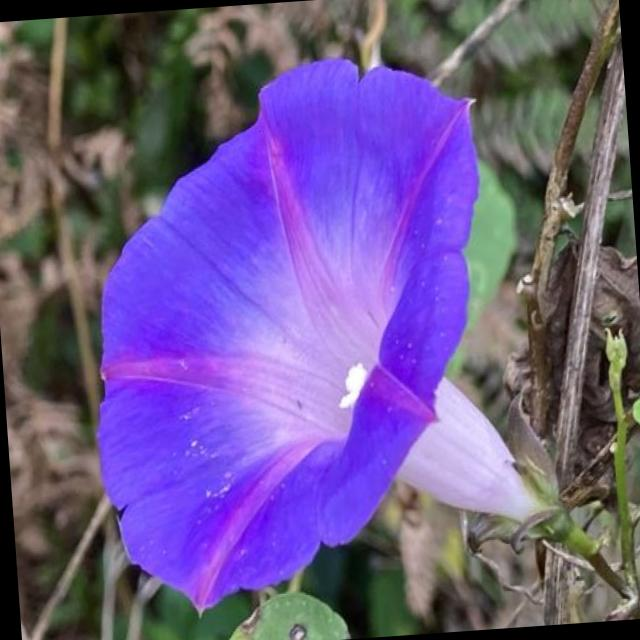ipomoea: (68, 41, 546, 624)
